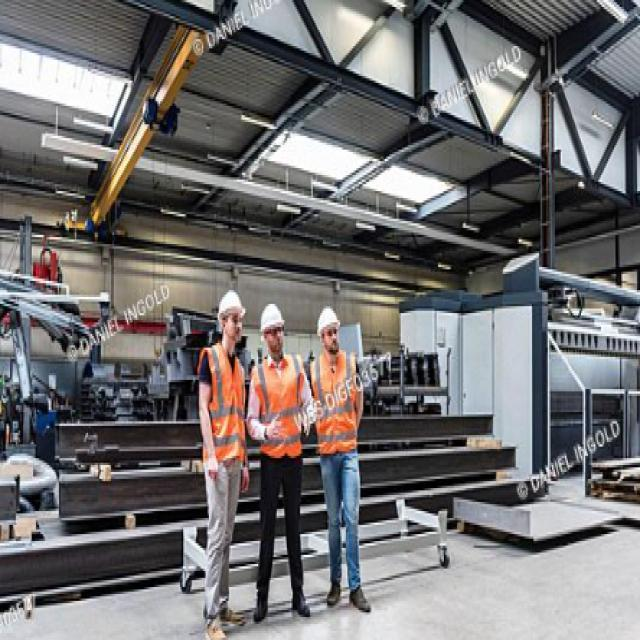hard_hat: (215, 288, 248, 346), (259, 302, 288, 360), (315, 305, 343, 359)
shoes: (251, 589, 313, 623), (324, 577, 374, 617), (201, 603, 247, 640)
vest: (198, 342, 250, 466), (249, 352, 307, 460), (307, 349, 363, 457)
